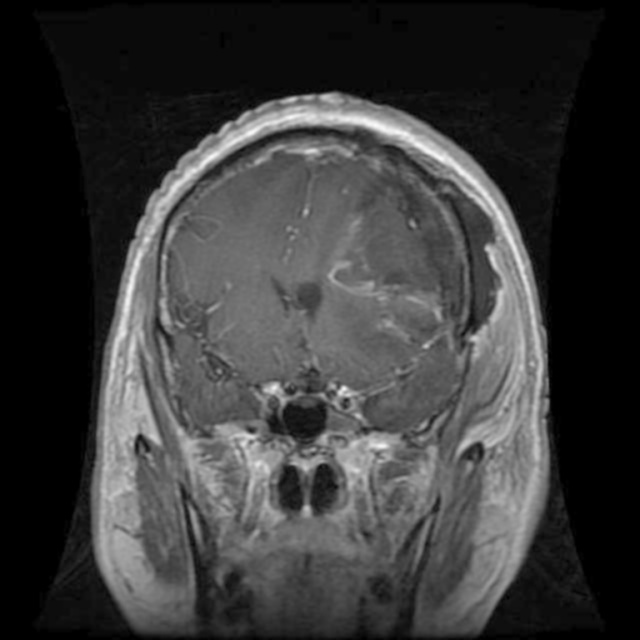pituitary tumor: (328, 221, 406, 299)
